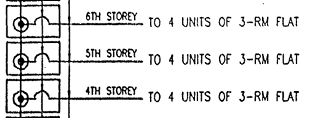Single Phase Tap-Off Unit: (3, 77, 66, 116), (4, 2, 63, 40), (2, 40, 64, 76)
